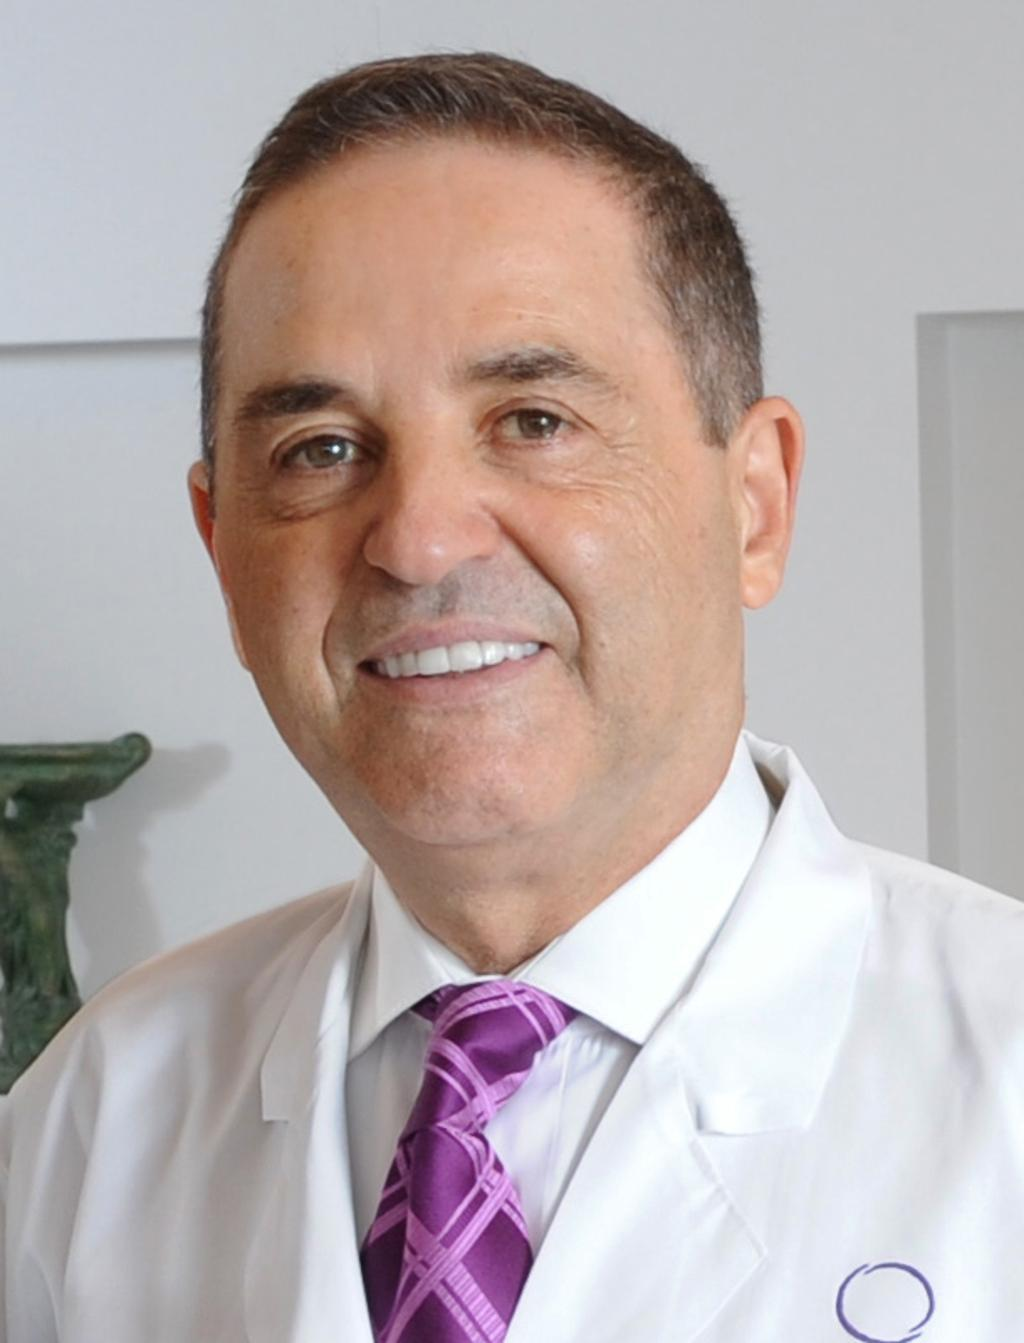face: (216, 148, 728, 841)
